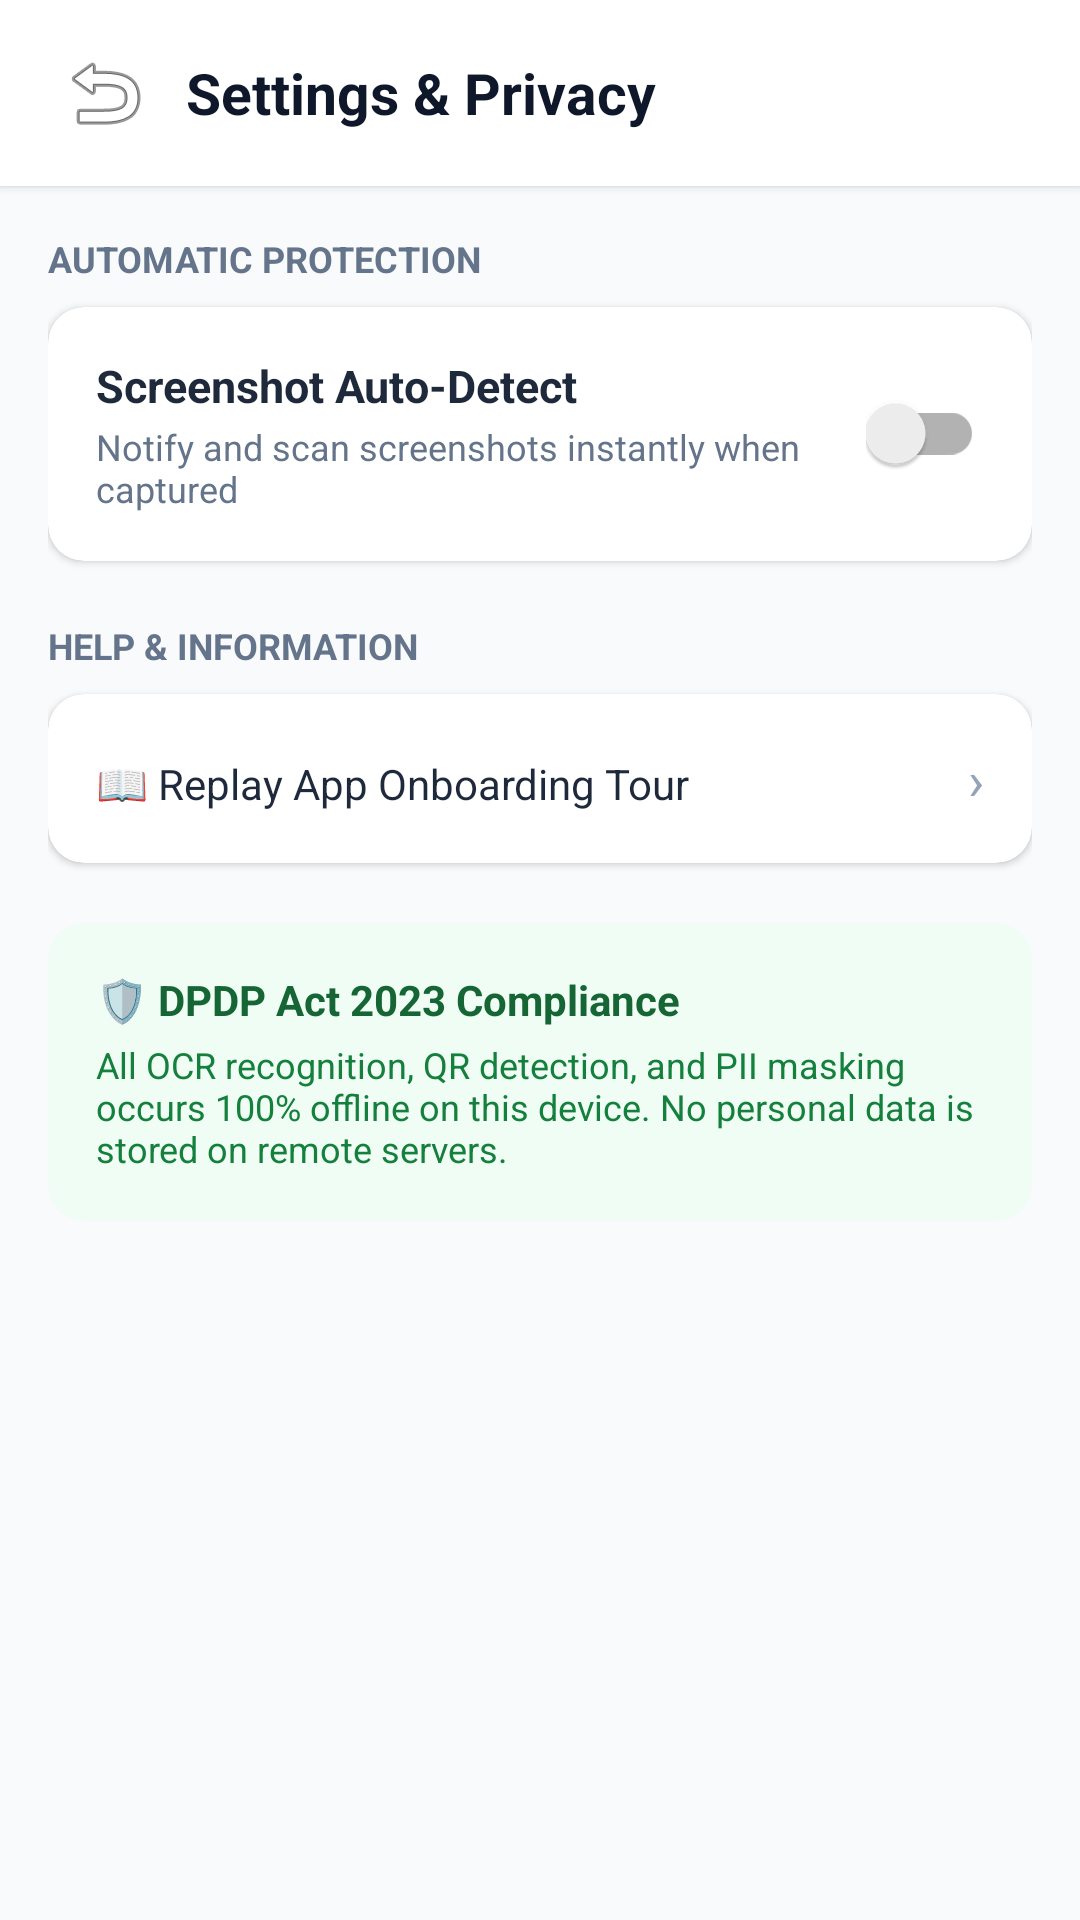

Icon bounding boxes for this 1080 × 1920 phone screenshot, format bbox=(x1, y1, x2, y2):
Back: bbox=(72, 62, 141, 125)
